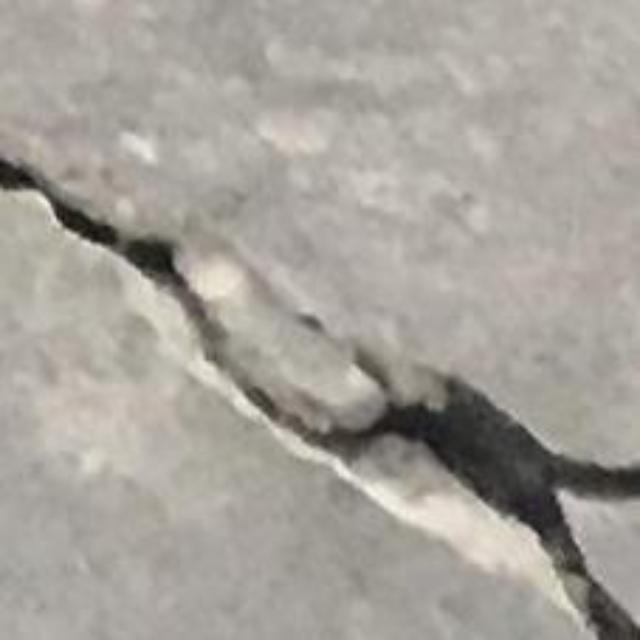crack: (0, 158, 639, 639)
